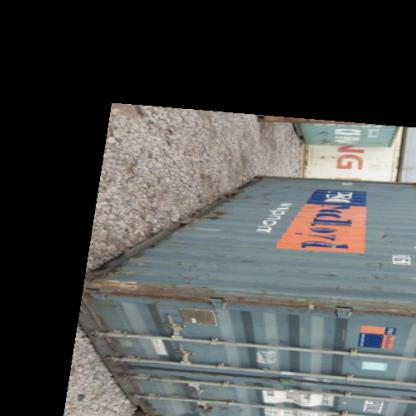Damage: (154, 238, 206, 288), (90, 260, 150, 294), (356, 256, 399, 294), (241, 186, 291, 214), (199, 206, 227, 230), (318, 264, 348, 280), (232, 256, 256, 272), (377, 230, 394, 245)
